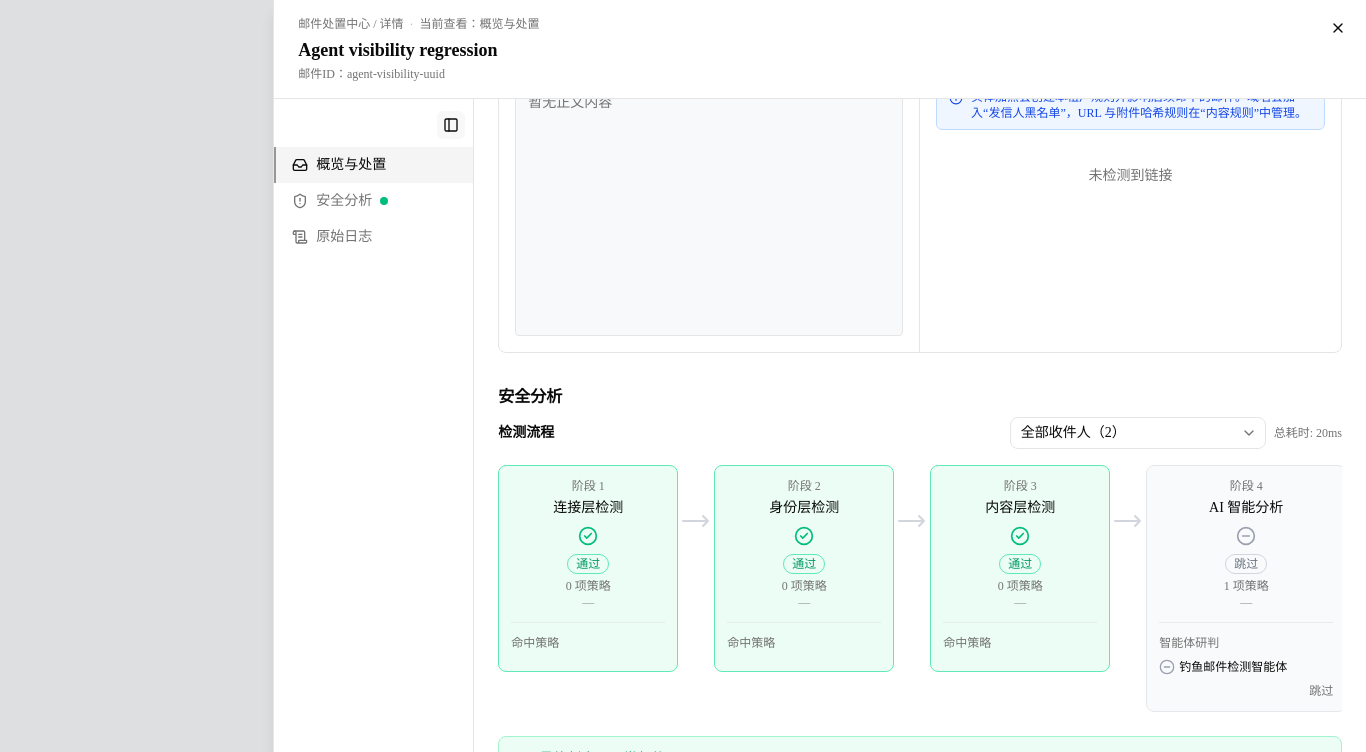
Scenario: DetailModal agent visibility › reuses the tenant overview while changing recipient analysis
This screenshot has width=1366, height=752.
(page scrolled)
Expected: the element with test id "analysis-check-phishingAgent" is shown, [1159,659,1333,699]
Click the dropdown with test id "analysis-recipient-switcher" at (1138, 433), box [1010,417,1266,449]
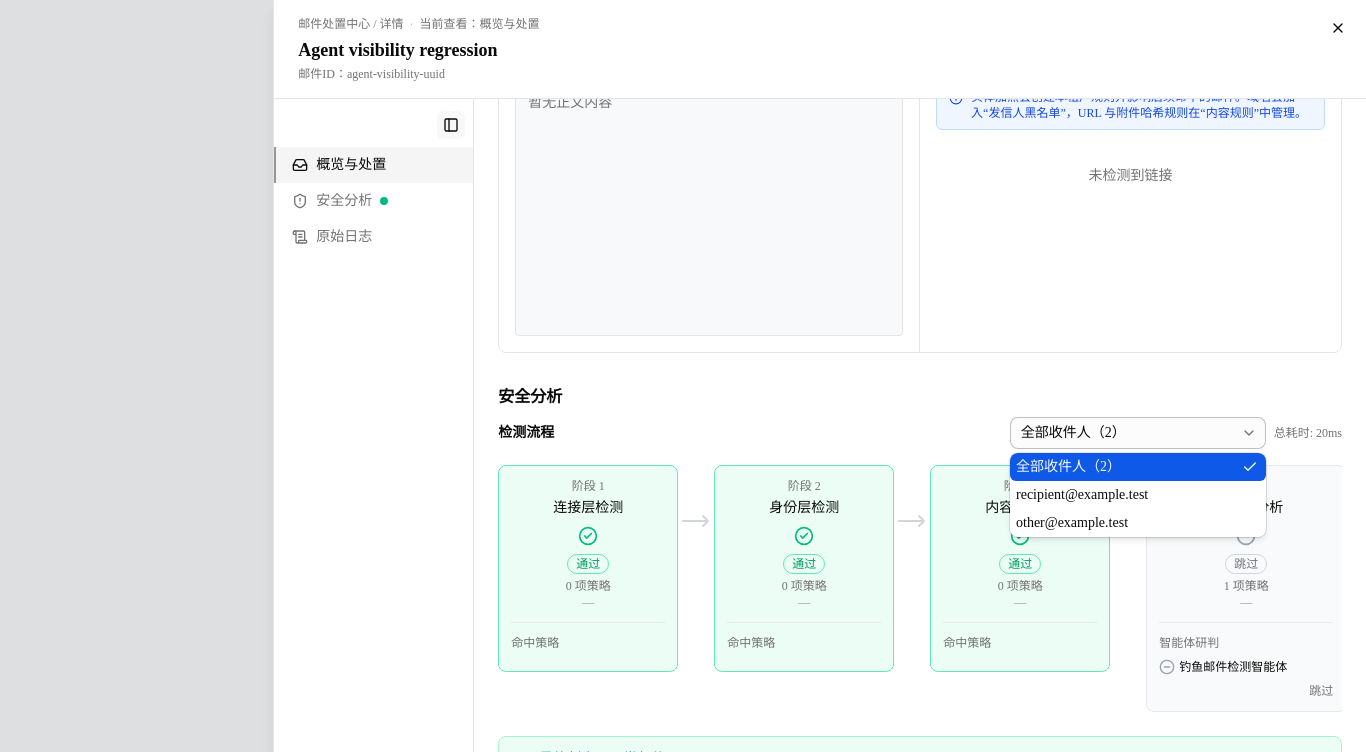
Click the option "other@example.test" at (1072, 522), box [1016,515,1128,530]
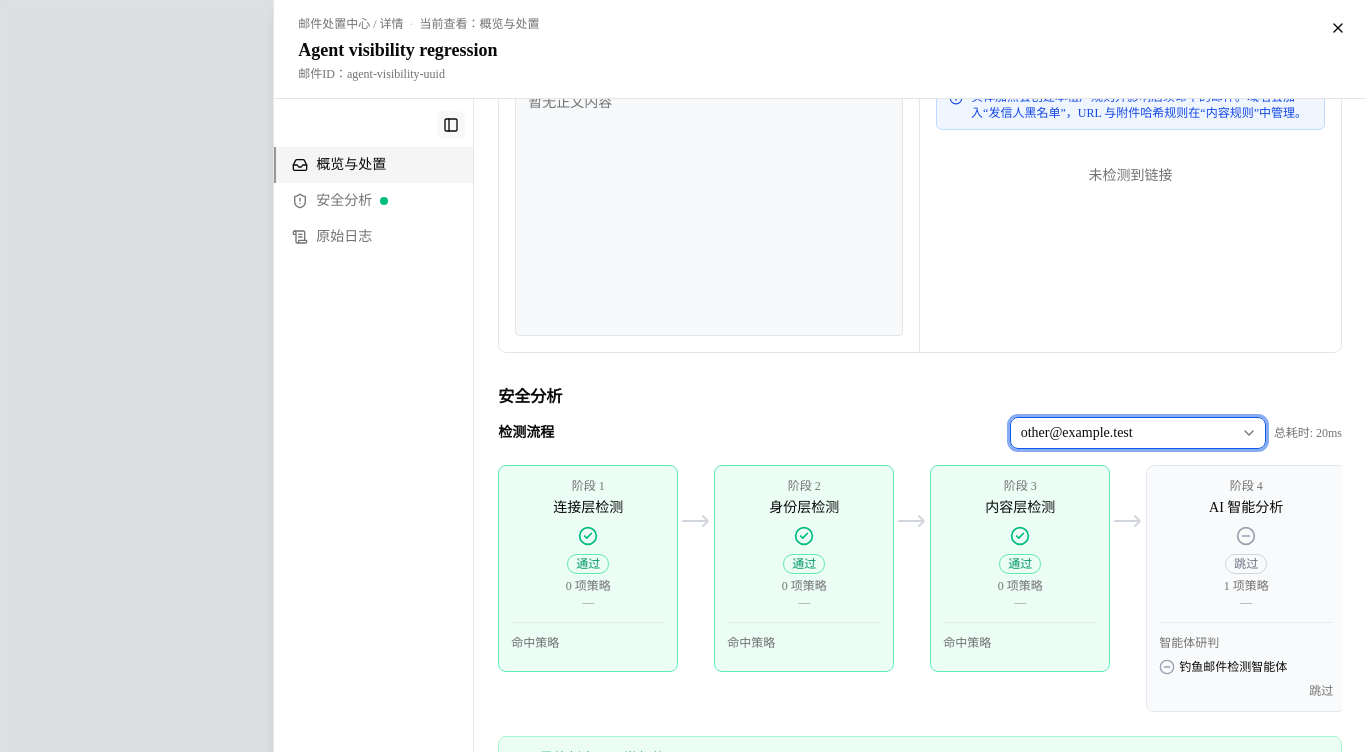
Expected: the element with test id "analysis-check-phishingAgent" shows "跳过", [1309,684,1333,698]
Now the dropdown with test id "analysis-recipient-switcher" shows "other@example.test", box [1010,417,1266,449]
